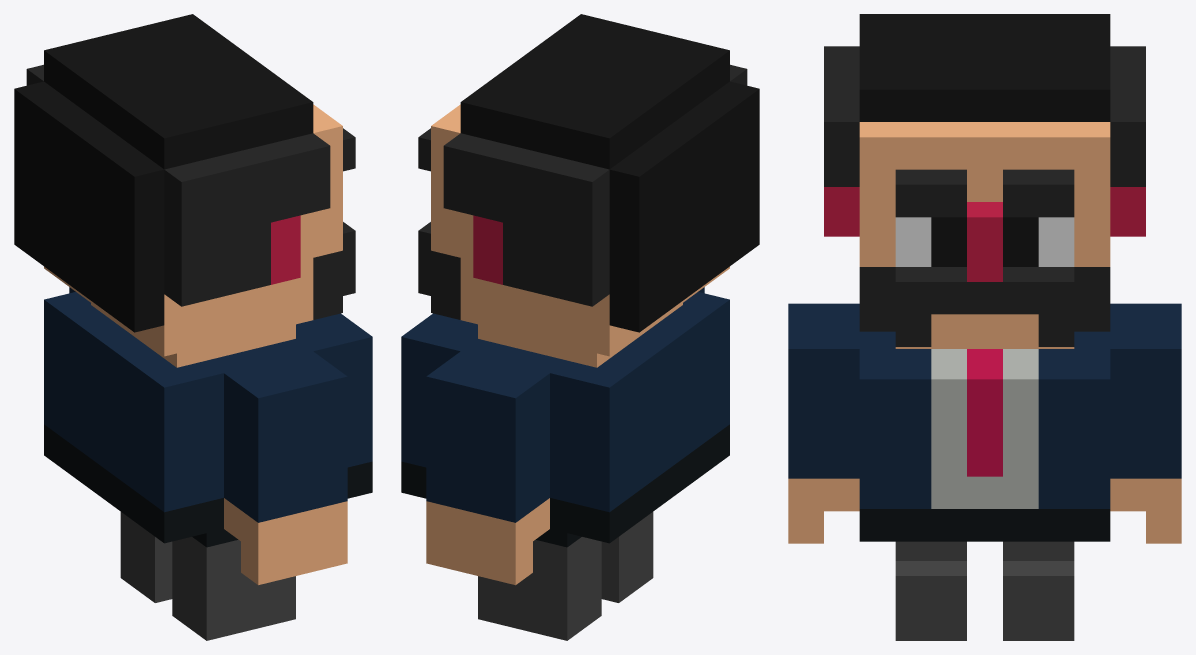
Rendered from humanboss.obj.
3 renders of one model, left to right at view 1: azimuth 30°, elevation 25°; view 2: azimuth 150°, elevation 25°; view 3: azimuth 270°, elevation 25°, orthographic. The views are drawn at different scales.
Size of the model in its own units: 0.8 by 1.7 by 1.1.
Materials: 1 (1 with a texture image).
